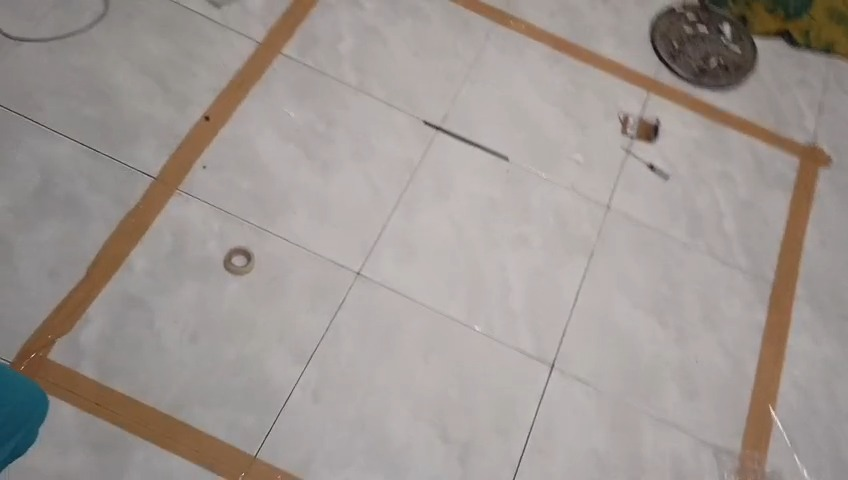floor marking: (454, 0, 830, 479), (13, 0, 317, 479)
